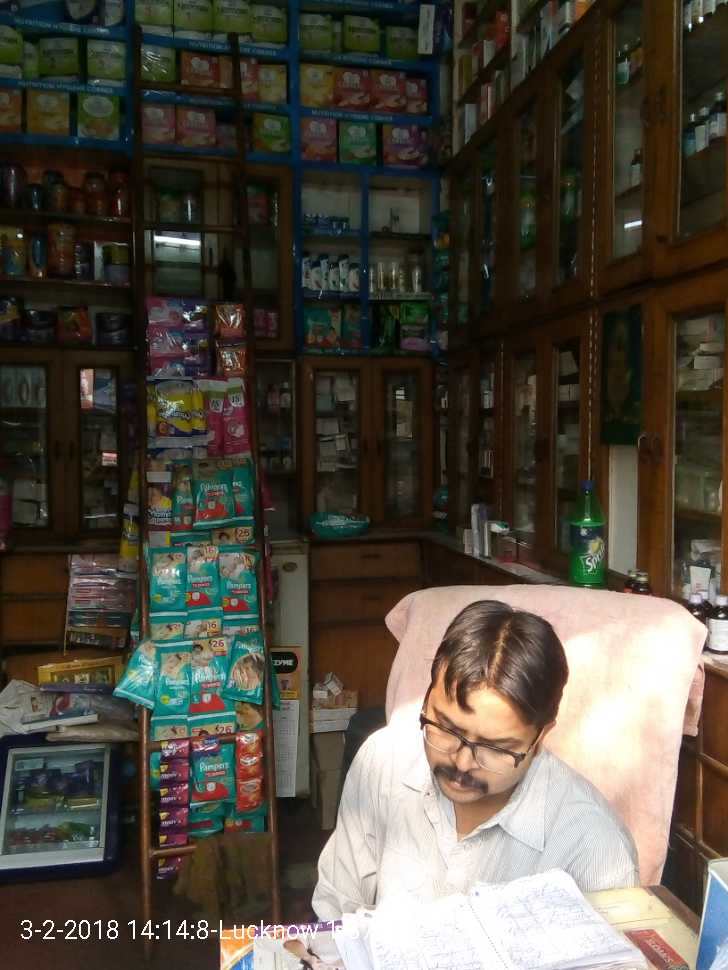vicks: (305, 211, 353, 232)
